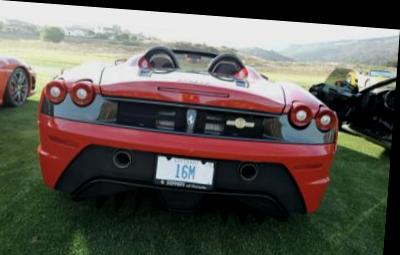License_Plate: (152, 153, 213, 192)
